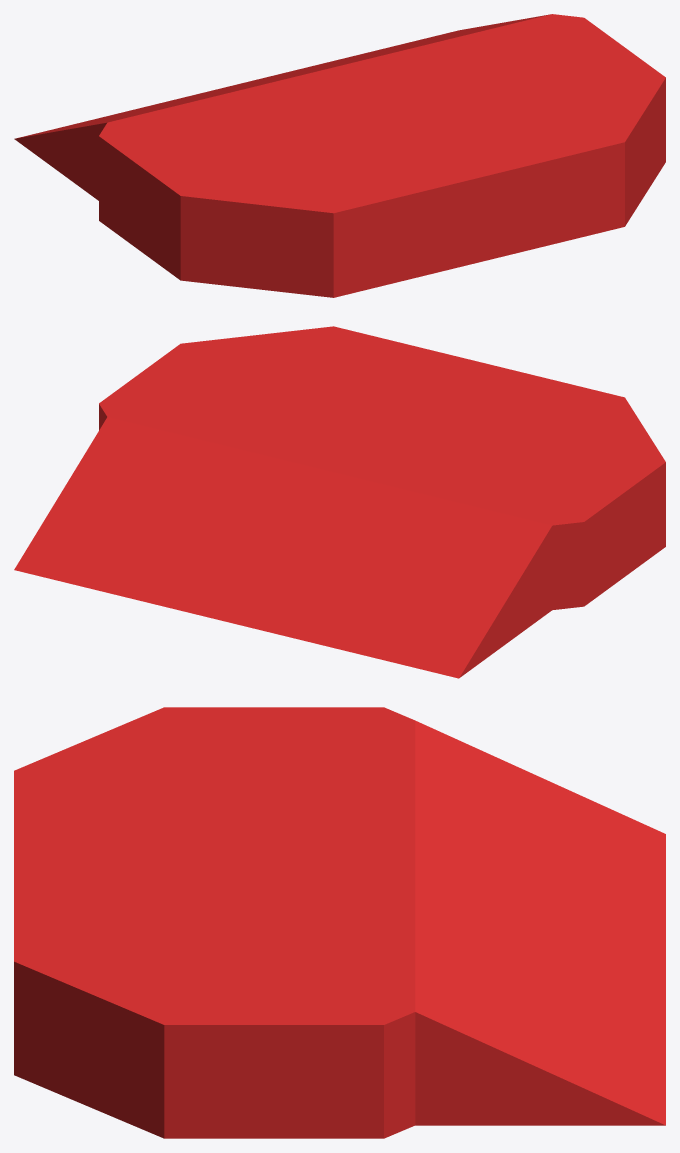
Rendered from hideout.fbx.
3 renders of one model, top to bottom at view 1: azimuth 30°, elevation 25°; view 2: azimuth 150°, elevation 25°; view 3: azimuth 270°, elevation 25°, orthographic. The views are drawn at different scales.
Visible parts, largest first — view 1: Hideout; view 2: Hideout; view 3: Hideout.
Boxes of the visible parts, box(x1,y1,x2,y2) form: Hideout: box(14, 14, 665, 297); Hideout: box(14, 326, 665, 678); Hideout: box(14, 707, 665, 1138).
Bounding box in the file's own units: 600 × 100 × 520.
